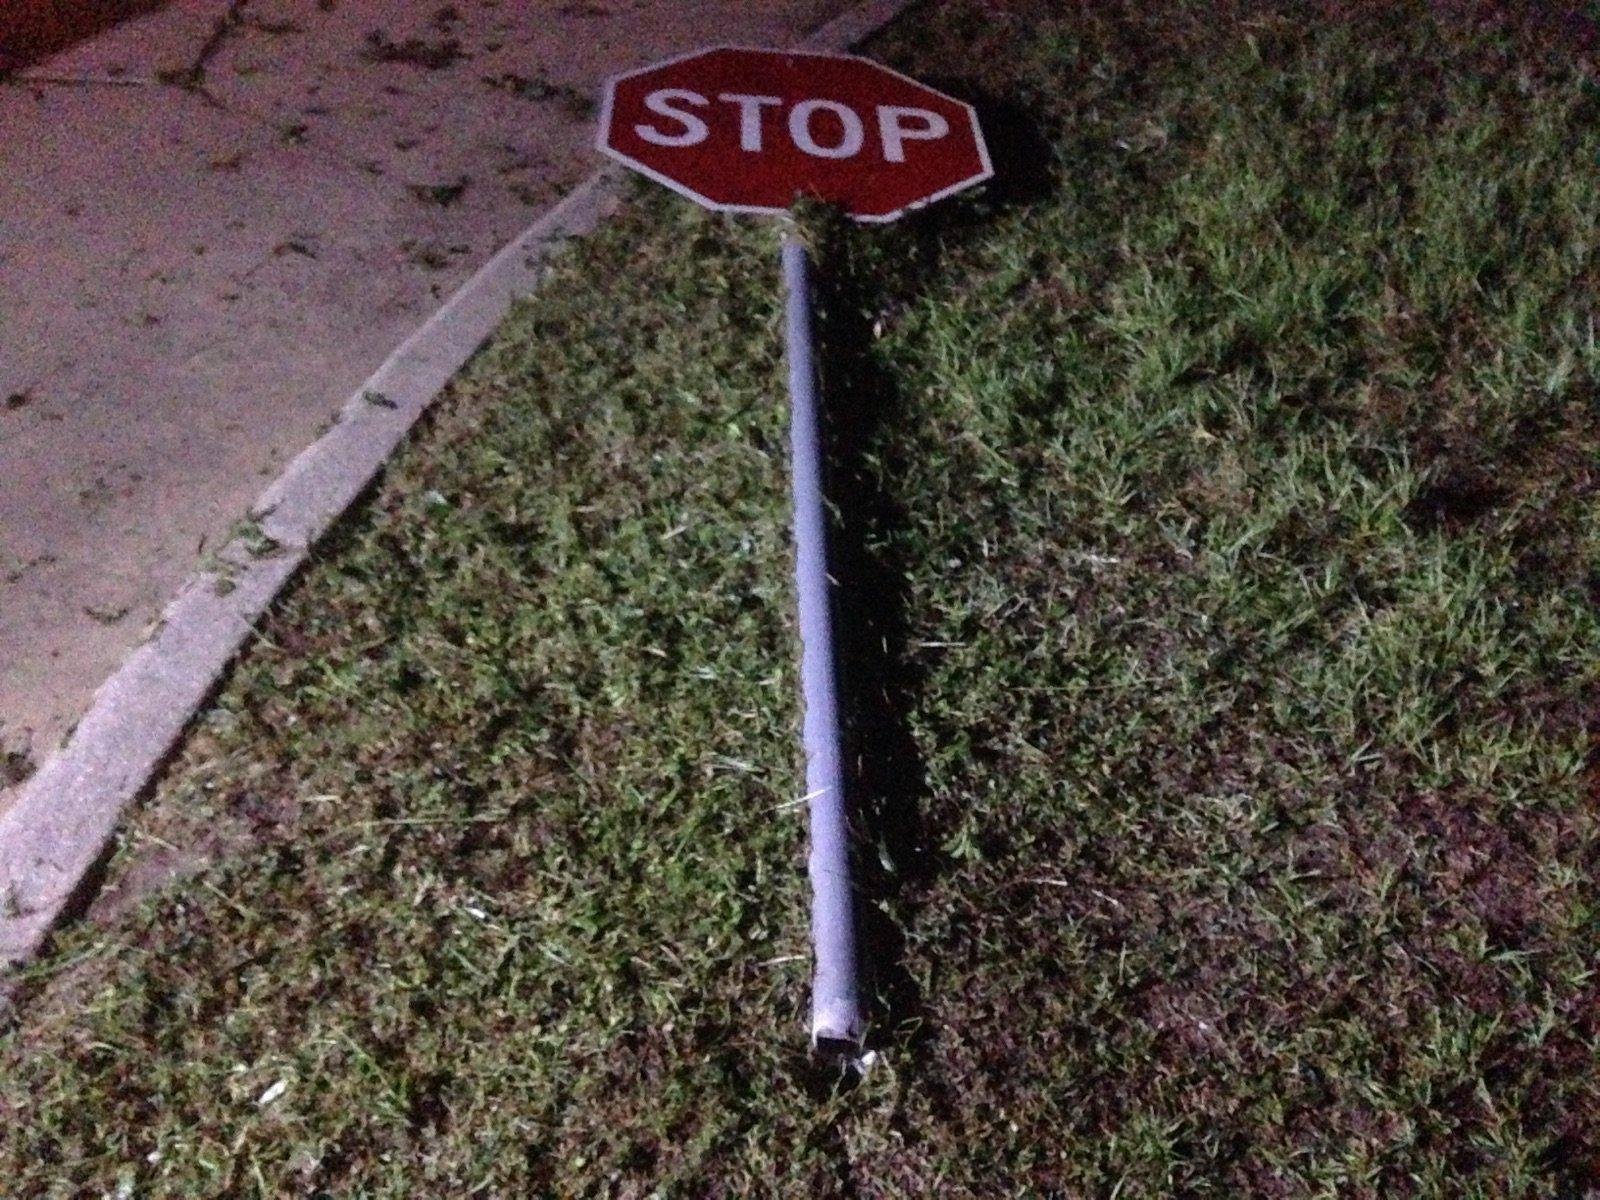Stop-Sign: (582, 33, 1007, 234)
